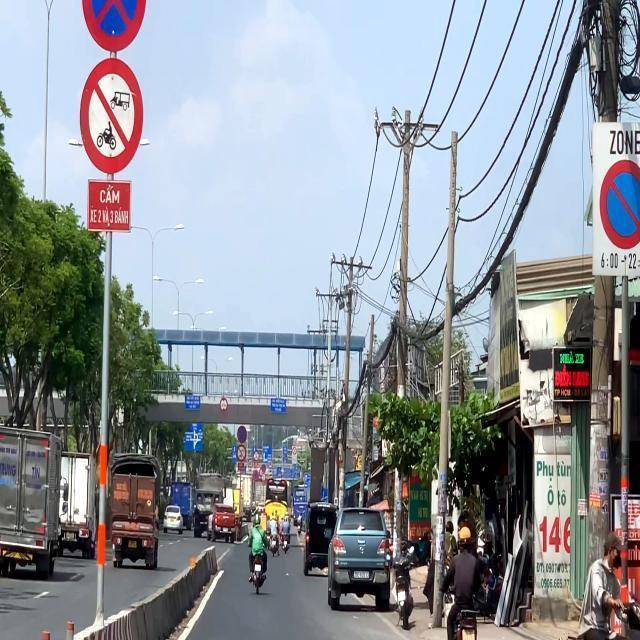130-cam-dung-va-do-xe: (79, 0, 149, 52), (292, 491, 306, 493)
131a-cam-do-xe: (600, 156, 640, 248)
